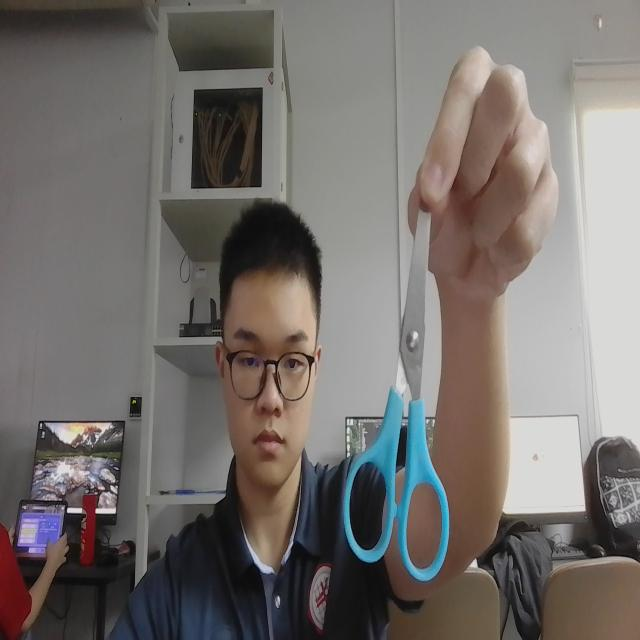scissors: (331, 170, 458, 594)
